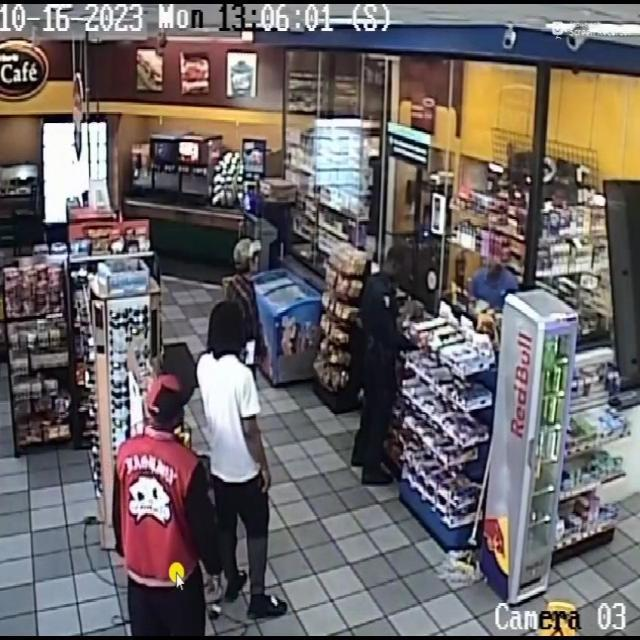Normal: (90, 373, 238, 640), (189, 297, 300, 624), (340, 230, 423, 503), (219, 219, 290, 347)
